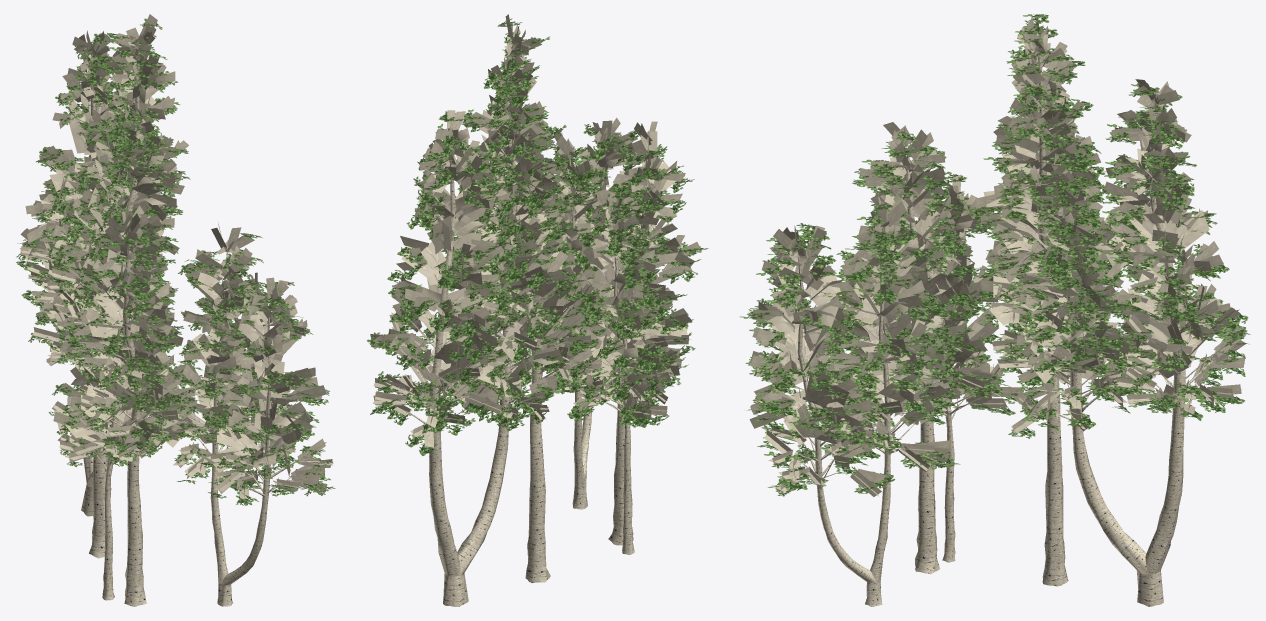
3 views of the same model, side by side, from view 1: azimuth 30°, elevation 25°; view 2: azimuth 150°, elevation 25°; view 3: azimuth 270°, elevation 25° (orthographic). The views are drawn at different scales.
Parts seen in each view (by area): view 1: EuropeanAspen_Cluster_Low; view 2: EuropeanAspen_Cluster_Low; view 3: EuropeanAspen_Cluster_Low.
Boxes of the visible parts, left/top/right/bottom form: EuropeanAspen_Cluster_Low: left=16, top=14, right=335, bottom=606; EuropeanAspen_Cluster_Low: left=367, top=14, right=708, bottom=606; EuropeanAspen_Cluster_Low: left=740, top=14, right=1250, bottom=606.
Size of the model in its own units: 16.13 by 40.12 by 31.89.
Materials: 5 (5 with a texture image).
